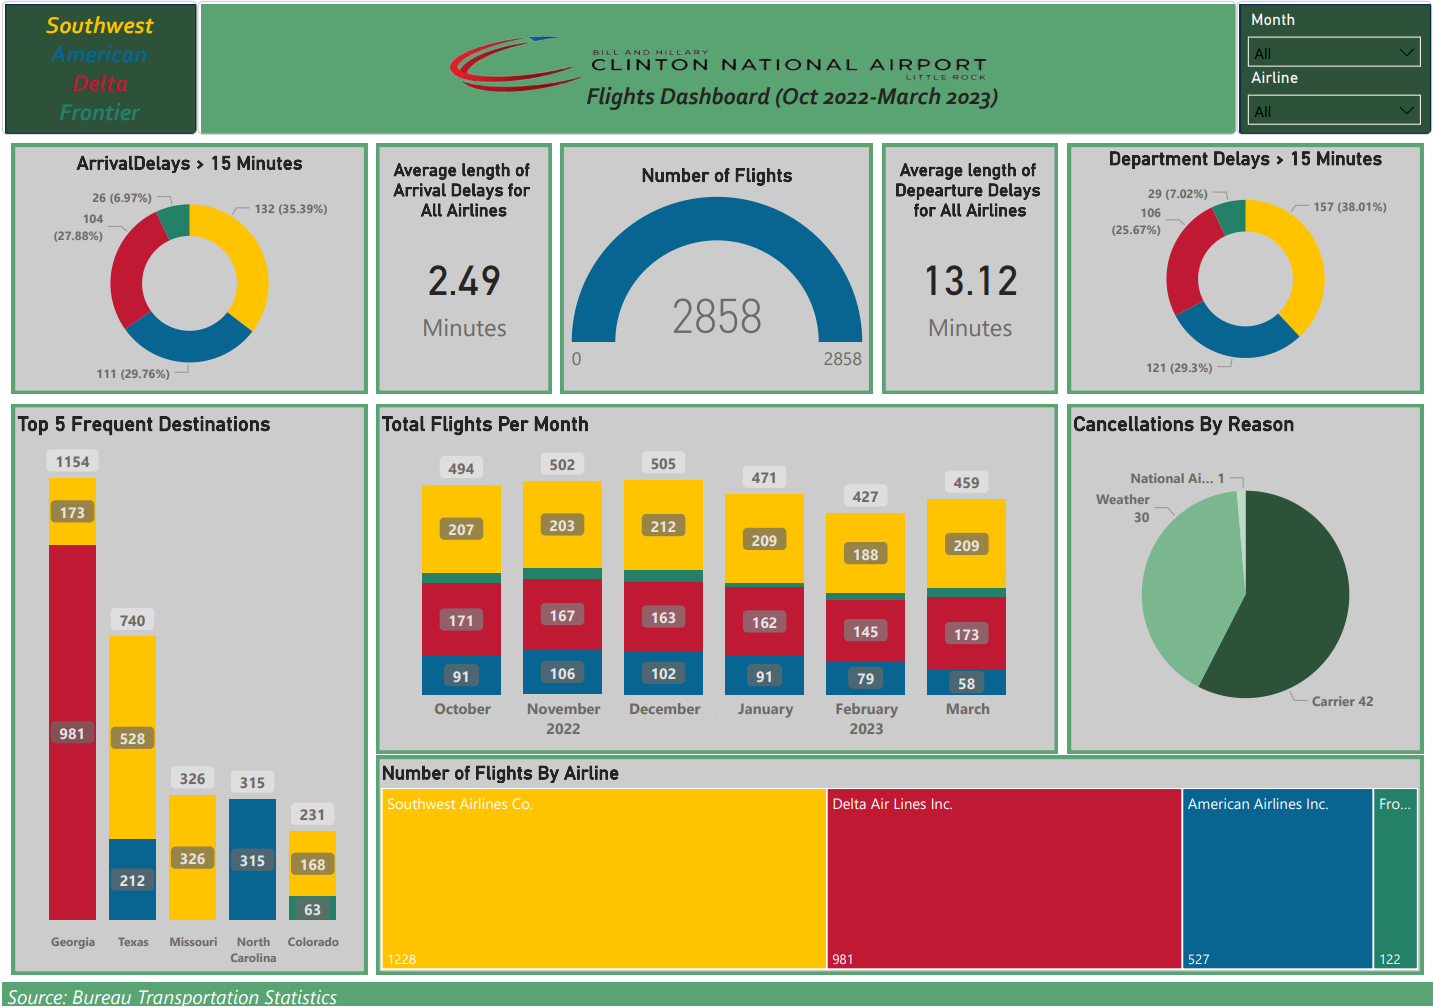

Layout of this report page (visuals, bound fields, positions):
{"tool":"powerbi","page":{"name":"Page 1","canvas":[1280,900],"ordinal":0},"visuals":[{"type":"shape","box":[1105,0,175,120],"z":0},{"type":"shape","box":[335,676,937,196],"z":1000},{"type":"shape","box":[954,361,318,313],"z":2000},{"type":"shape","box":[335,361,610,313],"z":3000},{"type":"shape","box":[9,361,318,511],"z":4000},{"type":"shape","box":[954,128,318,224],"z":5000},{"type":"shape","box":[788,128,157,224],"z":6000},{"type":"shape","box":[335,128,157,224],"z":7000},{"type":"shape","box":[500,128,279,224],"z":8000},{"type":"shape","box":[175,0,930,120],"z":9000},{"type":"slicer","fields":{"Values":["lr_airport_data.AIRLINE_NAME"]},"box":[1105,56,175,64],"z":10000},{"type":"textbox","title":"Source: Bureau Transportation Statistics ","box":[0,879,1280,21],"z":11000},{"type":"treemap","title":"Number of Flights By Airline","fields":{"Group":["lr_airport_data.AIRLINE_NAME"],"Values":["#Measures.NumofFlights"]},"box":[335,681,937,191],"z":12000},{"type":"gauge","title":"Number of Flights","fields":{"Y":["#Measures.NumofFlights"]},"box":[505,146,270,206],"z":13000},{"type":"donutChart","title":"Department Delays > 15 Minutes","fields":{"Category":["lr_airport_data.AIRLINE_NAME"],"Y":["Sum(lr_airport_data.DEP_DEL15)"]},"box":[954,131,318,217],"z":14000},{"type":"pieChart","title":"Cancellations By Reason","fields":{"Y":["CountNonNull(lr_airport_data.CANCELLED)"],"Category":["lr_airport_data.CANCELLATION_DESCRIPTION"]},"box":[954,368,318,306],"z":15000},{"type":"columnChart","title":"Top 5 Frequent Destinations","fields":{"Category":["lr_airport_data.DEST_STATE_NM"],"Y":["#Measures.NumofFlights"],"Series":["lr_airport_data.AIRLINE_NAME"]},"box":[9,368,318,504],"z":16000},{"type":"lineStackedColumnComboChart","title":"Total Flights Per Month","fields":{"Y":["#Measures.NumofFlights"],"Category":["lr_airport_data.FL_DATE.Variation.Date Hierarchy.Year","lr_airport_data.FL_DATE.Variation.Date Hierarchy.Month"],"Series":["lr_airport_data.AIRLINE_NAME"]},"box":[335,368,607,306],"z":17000},{"type":"image","box":[386,0,507,120],"z":18000},{"type":"card","title":"Minutes","fields":{"Values":["Avg(lr_airport_data.DEP_DELAY_NEW)"]},"box":[806,200,121,122],"z":19000},{"type":"card","fields":{"Values":["#Measures.TitleBar"]},"box":[788,128,157,83],"z":20000},{"type":"card","title":"Minutes","fields":{"Values":["Avg(lr_airport_data.ARR_DELAY)"]},"box":[356,200,116,122],"z":21000},{"type":"card","fields":{"Values":["#Measures.ArrDelayTitleBar"]},"box":[335,128,157,83],"z":22000},{"type":"slicer","fields":{"Values":["lr_airport_data.MonthYear"]},"box":[1105,0,175,56],"z":23000},{"type":"textbox","box":[481,67,453,42],"z":24000},{"type":"shape","box":[9,128,318,224],"z":25000},{"type":"donutChart","title":"ArrivalDelays > 15 Minutes","fields":{"Category":["lr_airport_data.AIRLINE_NAME"],"Y":["Sum(lr_airport_data.ARR_DEL15)"]},"box":[9,135,318,217],"z":26000},{"type":"shape","box":[0,0,175,120],"z":27000},{"type":"textbox","box":[20,4,135,120],"z":28000}]}

Visuals, with their boxes in screenshot pixels (x1, y1, x2, y2), scaled from the page's 1280x900 canvas onto the 1433x1007 screenshot:
shape: 1237 0 1432 134
shape: 375 756 1424 976
shape: 1068 404 1424 754
shape: 375 404 1058 754
shape: 10 404 366 976
shape: 1068 143 1424 394
shape: 882 143 1058 394
shape: 375 143 551 394
shape: 560 143 872 394
shape: 196 0 1237 134
slicer - lr_airport_data.AIRLINE_NAME: 1237 63 1432 134
"Source: Bureau Transportation Statistics " textbox: 0 984 1432 1006
"Number of Flights By Airline" treemap: 375 762 1424 976
"Number of Flights" gauge: 565 163 868 394
"Department Delays > 15 Minutes" donutChart: 1068 147 1424 389
"Cancellations By Reason" pieChart: 1068 412 1424 754
"Top 5 Frequent Destinations" columnChart: 10 412 366 976
"Total Flights Per Month" lineStackedColumnComboChart: 375 412 1055 754
image: 432 0 1000 134
"Minutes" card: 902 224 1038 360
card - #Measures.TitleBar: 882 143 1058 236
"Minutes" card: 399 224 528 360
card - #Measures.ArrDelayTitleBar: 375 143 551 236
slicer - lr_airport_data.MonthYear: 1237 0 1432 63
textbox: 538 75 1046 122
shape: 10 143 366 394
"ArrivalDelays > 15 Minutes" donutChart: 10 151 366 394
shape: 0 0 196 134
textbox: 22 4 174 139
